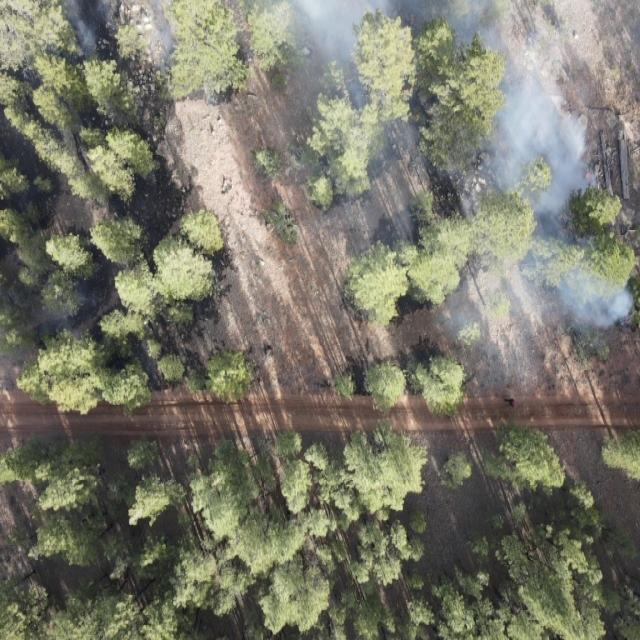fire: (582, 170, 594, 182)
smoke: (0, 0, 640, 84), (266, 83, 602, 207), (342, 207, 601, 326), (442, 326, 552, 394), (40, 284, 103, 345), (601, 279, 636, 325)
